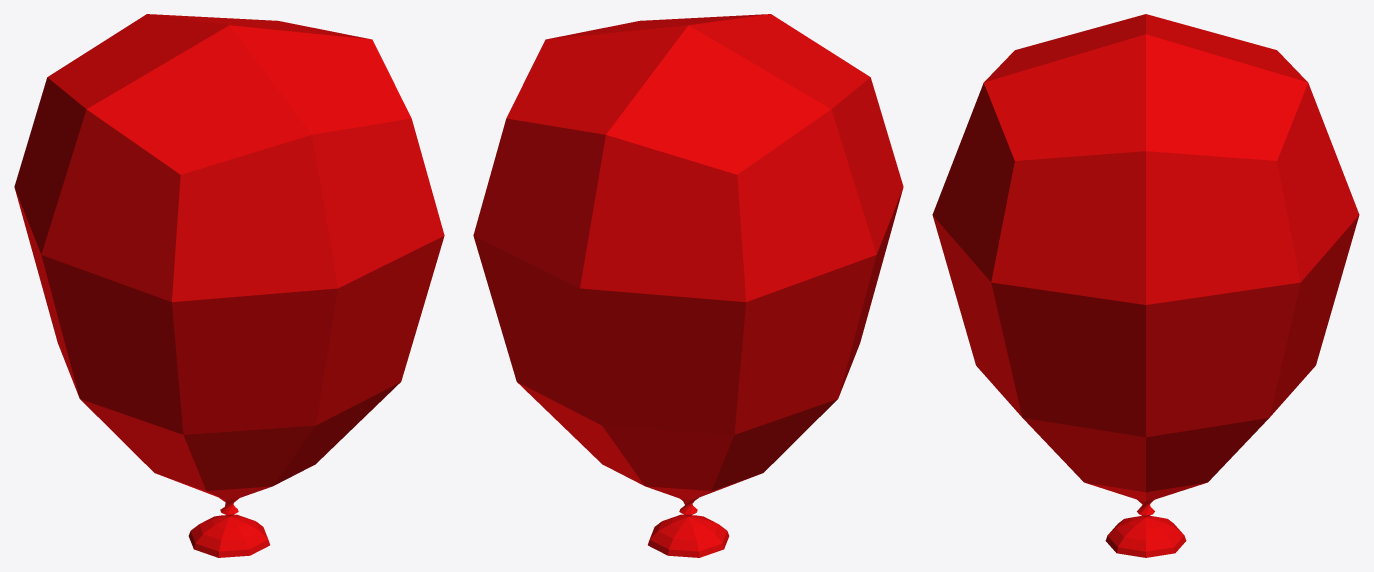
File: balloon.fbx
The picture shows the model from 3 angles, left to right: view 1: azimuth 30°, elevation 25°; view 2: azimuth 150°, elevation 25°; view 3: azimuth 270°, elevation 25°; orthographic projection.
Visible parts, largest first — view 1: Cube; view 2: Cube; view 3: Cube.
Part boxes in pixels (left/top/right/bottom): Cube: left=14, top=14, right=444, bottom=557; Cube: left=473, top=14, right=903, bottom=557; Cube: left=932, top=14, right=1359, bottom=557.
Bounding box in the file's own units: 188 × 246 × 188.
